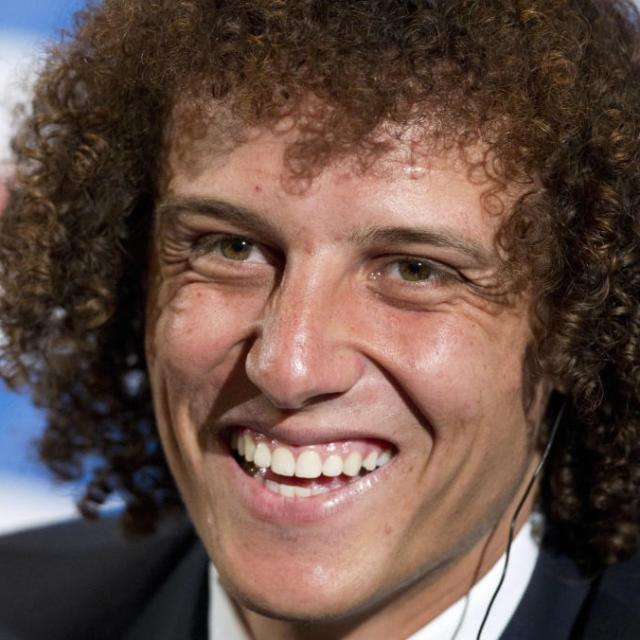Normal: (142, 95, 554, 622)
